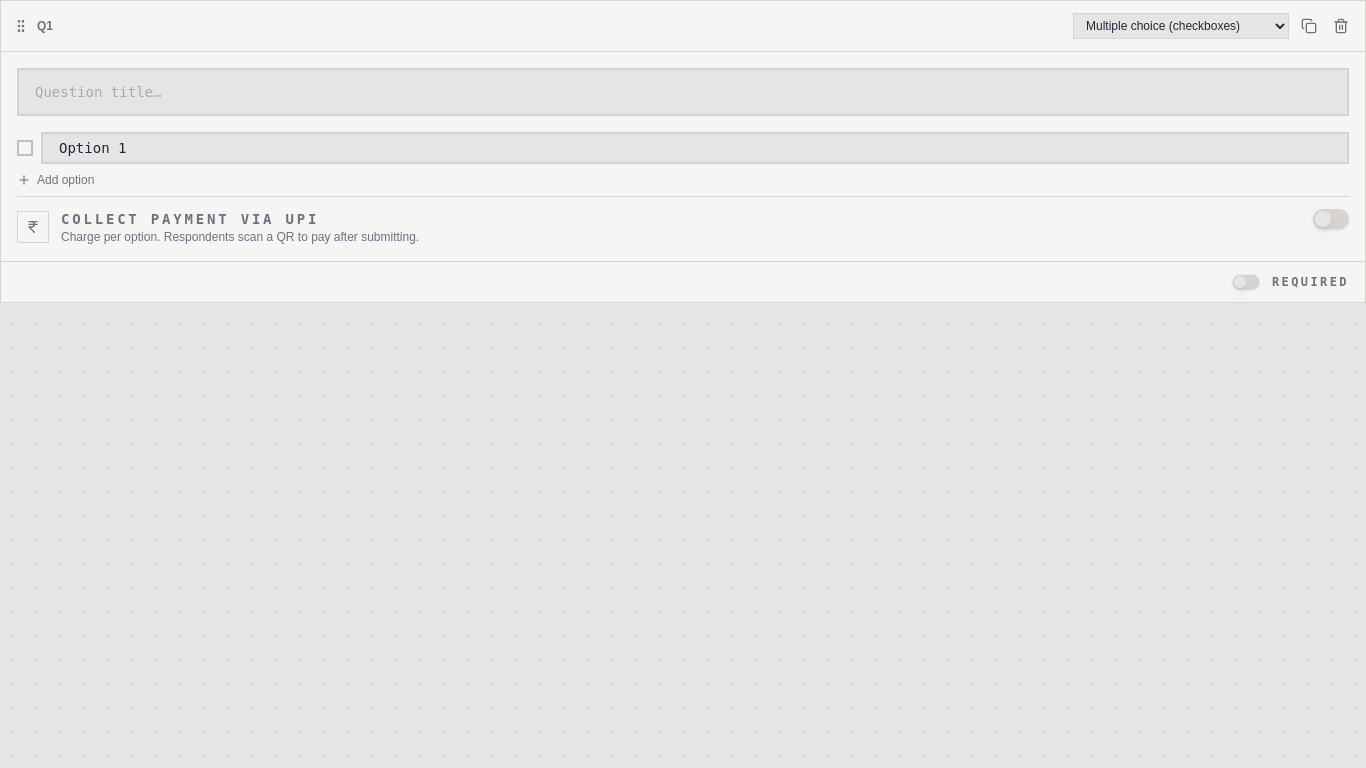
Test: FormQuestionEditor UPI payment › turning payment on reveals price inputs and the UPI ID field
Expected: the field with placeholder "yourname@okaxis" is not shown
Click the switch named "collect payment via upi" in the row of "Collect payment via UPI" at {"x": 1331, "y": 219}, box [1313,209,1349,229]
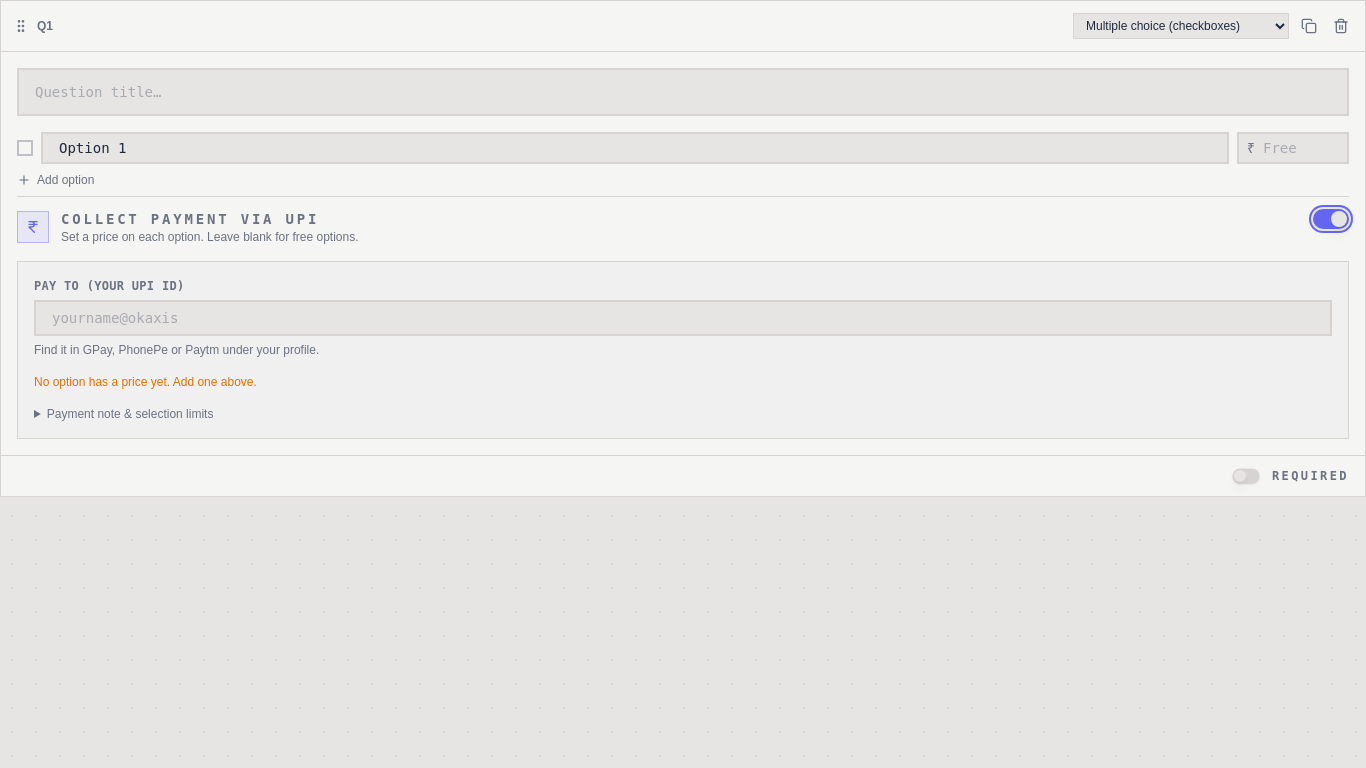
Now the field with placeholder "yourname@okaxis" is shown, box [34,300,1332,336]
Now the number of number fields named "price for" is 1, box [1237,132,1349,164]
Now the text "No option has a price yet. Add one above." is shown, box [34,375,257,389]
